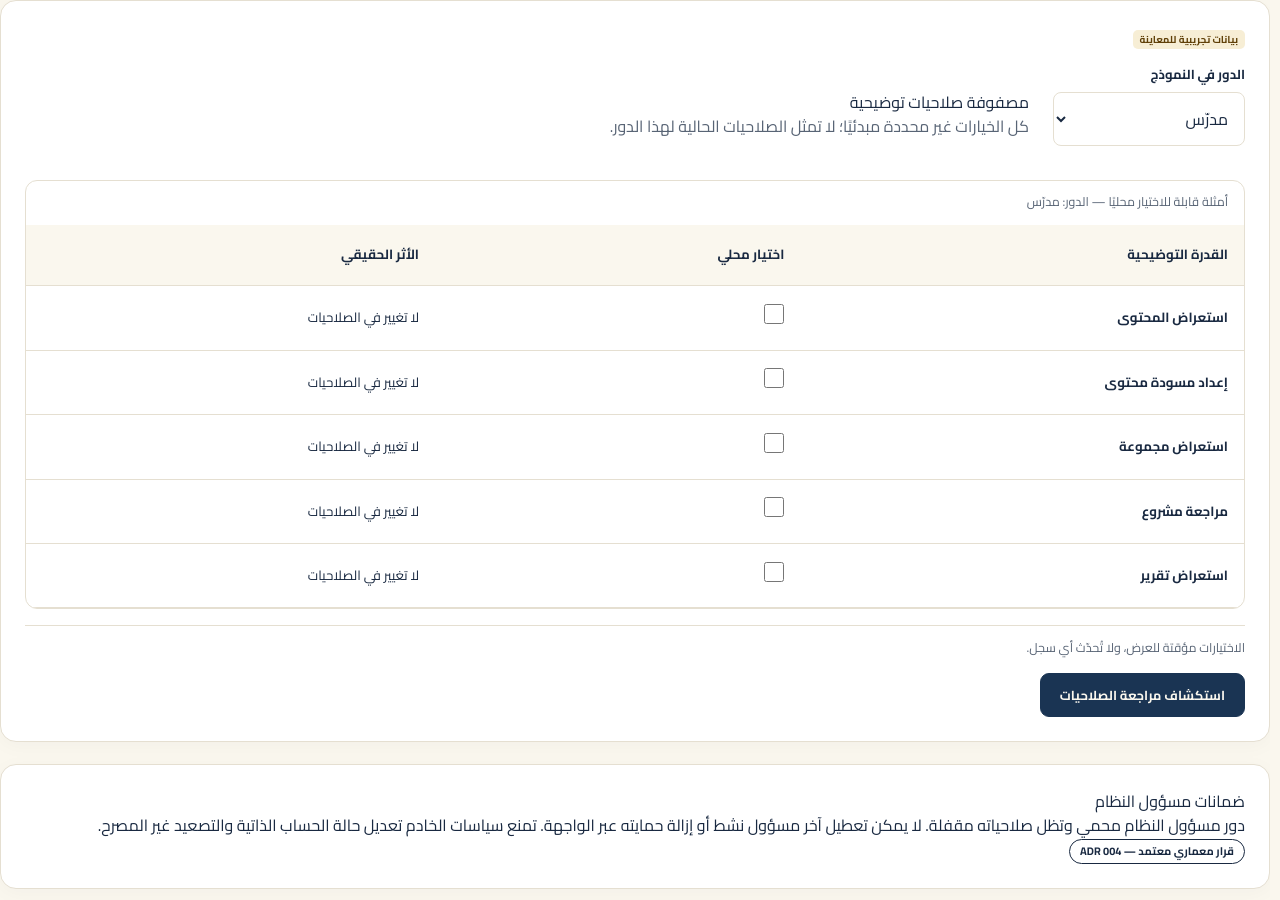
Test case: complete admin frontend previews › starts permissions unspecified and reports no grant when toggled
The width and height of the screenshot is (1280, 900).
Click the checkbox named "اختيار استعراض المحتوى محليًا": (774, 314) [764,304,784,324]
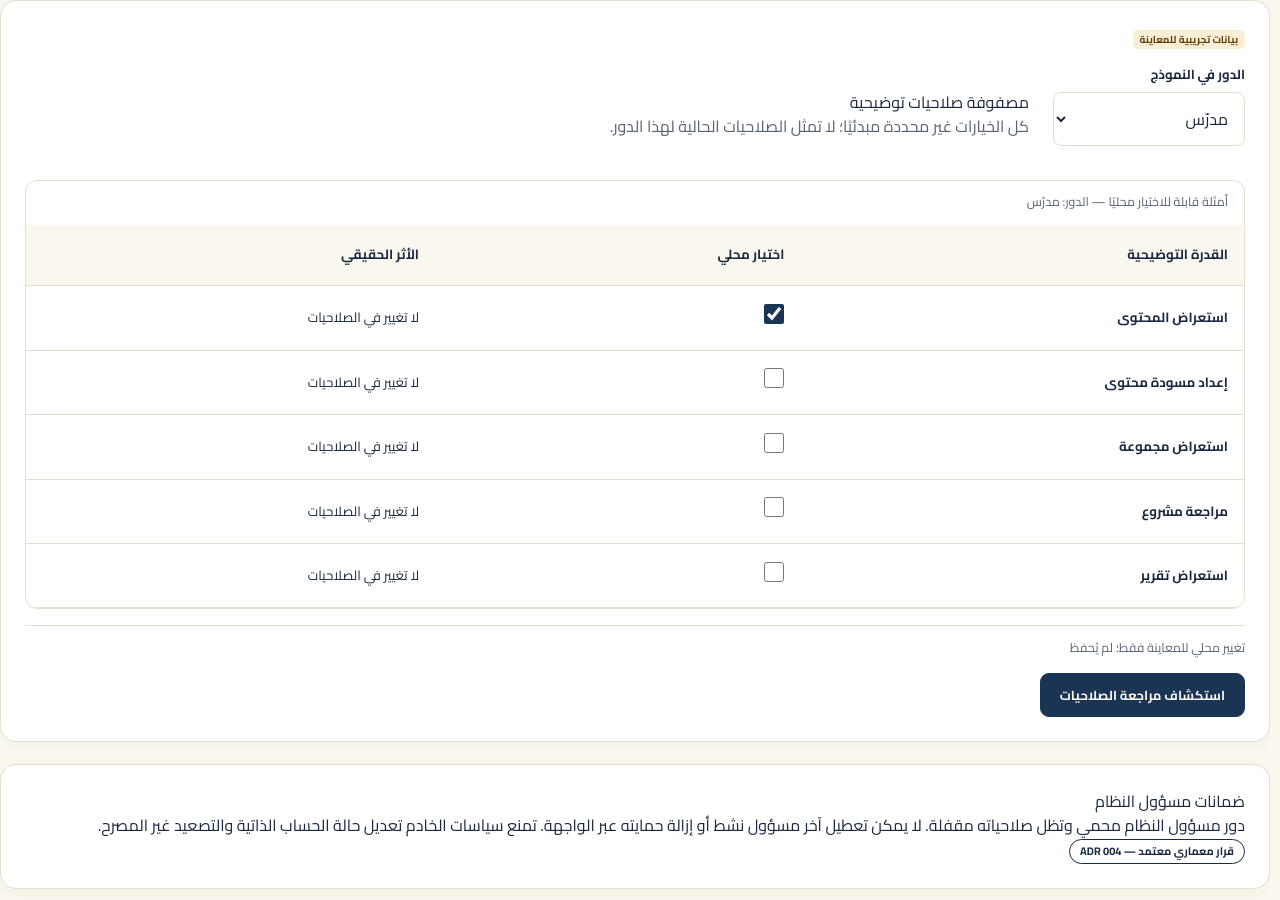
Expected: the text "دور مسؤول النظام محمي" is shown, [98,810,1245,840]
Now the checkbox named "اختيار استعراض المحتوى محليًا" is checked, box [764,304,784,324]
Now the message reads "تغيير محلي للمعاينة فقط؛ لم يُحفظ", box [1070,636,1245,659]
